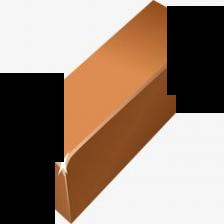brown: (1, 1, 224, 222)
